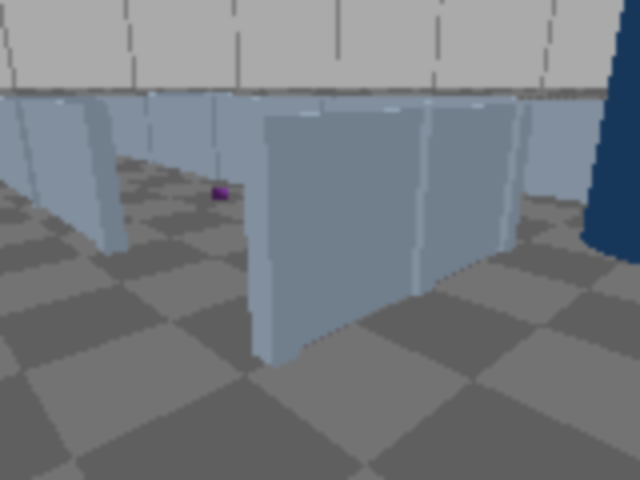person: (585, 0, 638, 267)
puck: (209, 185, 232, 204)
